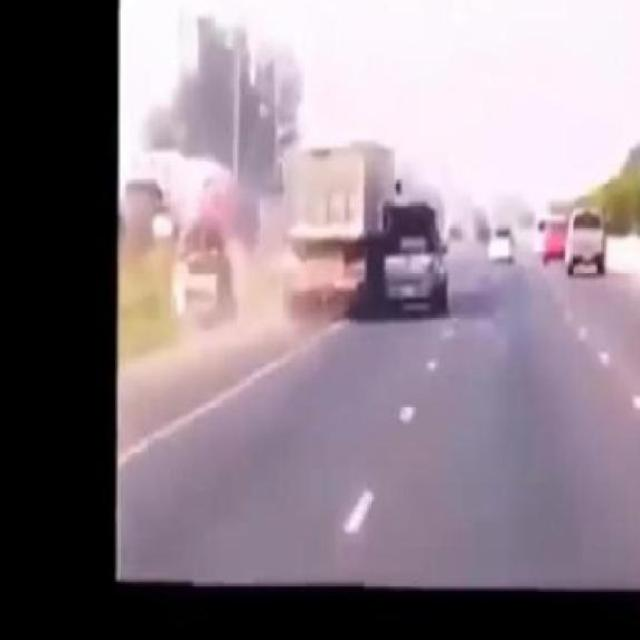accident: (284, 136, 456, 324)
